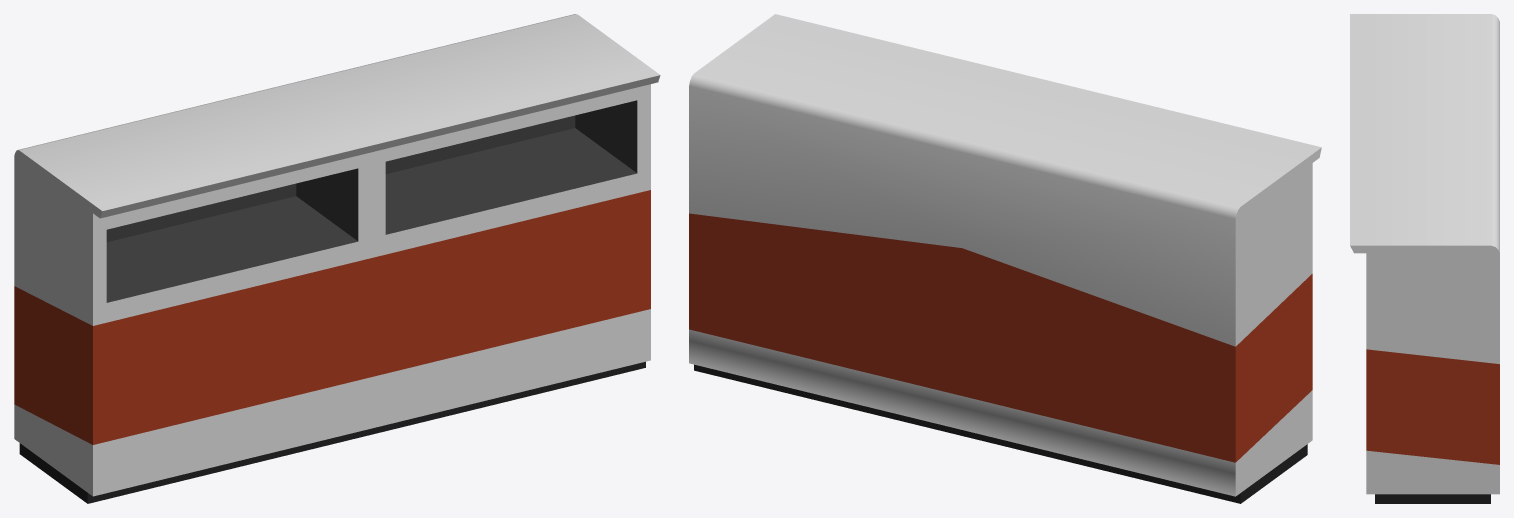
The model's file is Desk_2.fbx.
3 views of the same model, side by side, from view 1: azimuth 30°, elevation 25°; view 2: azimuth 150°, elevation 25°; view 3: azimuth 270°, elevation 25° (orthographic). The views are drawn at different scales.
Visible parts, largest first — view 1: Desk_2; view 2: Desk_2; view 3: Desk_2.
Boxes of the visible parts, x1,y1,x2,y2 form: Desk_2: (14,14,660,503); Desk_2: (689,14,1321,503); Desk_2: (1350,14,1499,503).
Bounding box in the file's own units: 200 × 104 × 54.67.
